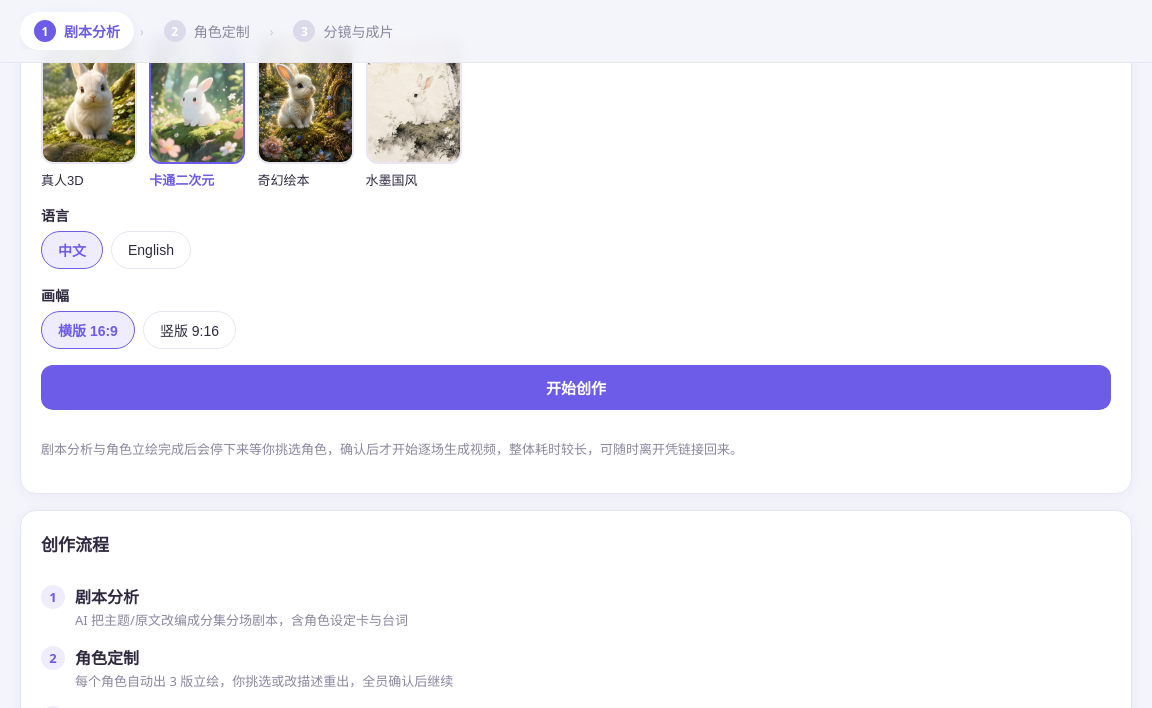
Scenario: ProjectCreatePage › shows a validation error for an empty source
(page scrolled)
Click the button "开始创作" at (576, 388), box 41,365 -> 1111,410
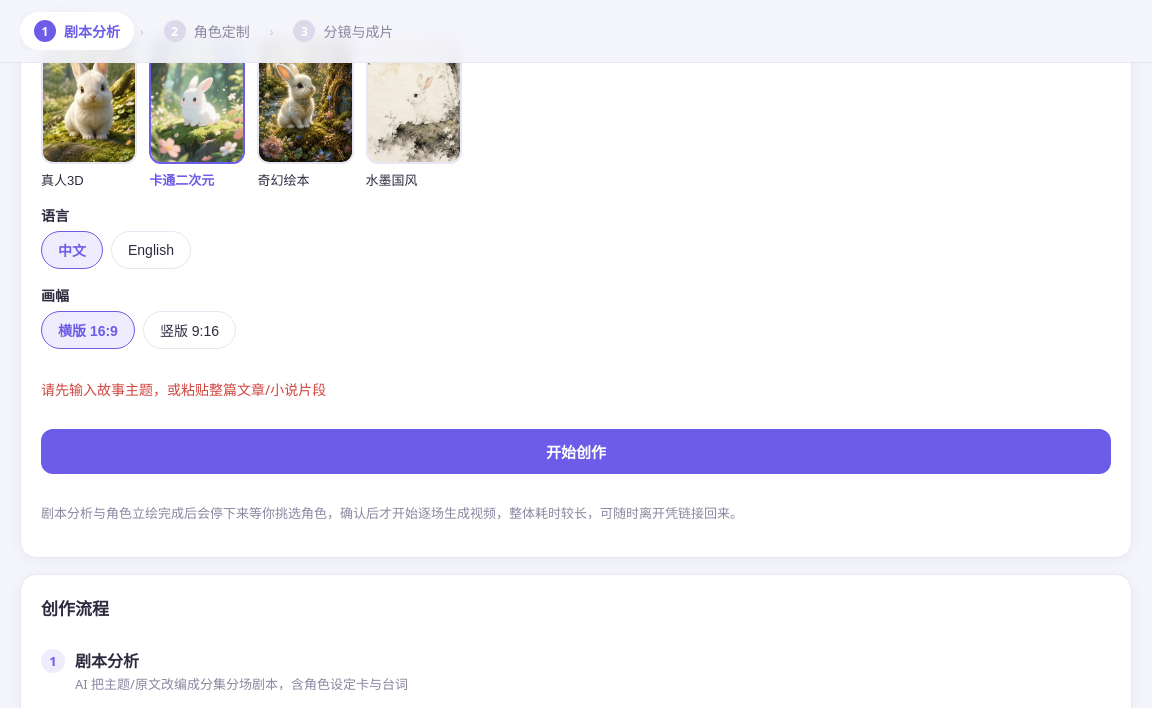
Now the message "请先输入故事主题，或粘贴整篇文章/小说片段" is shown, box 41,380 -> 326,399
